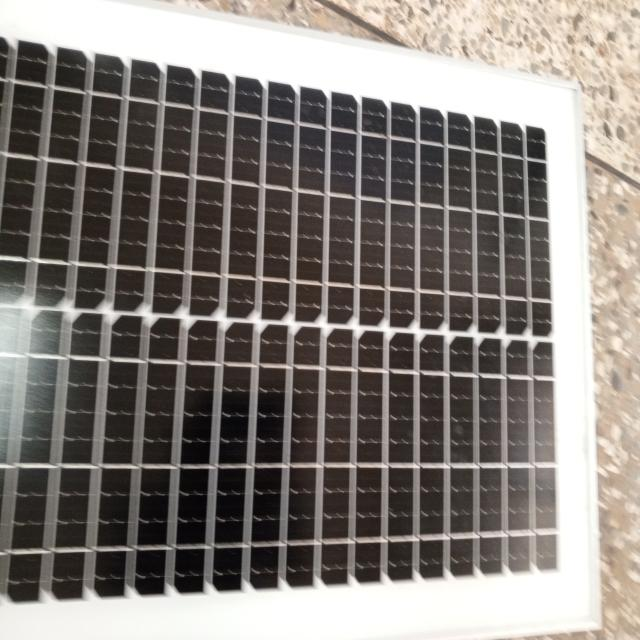Clean: (50, 104, 567, 597)
